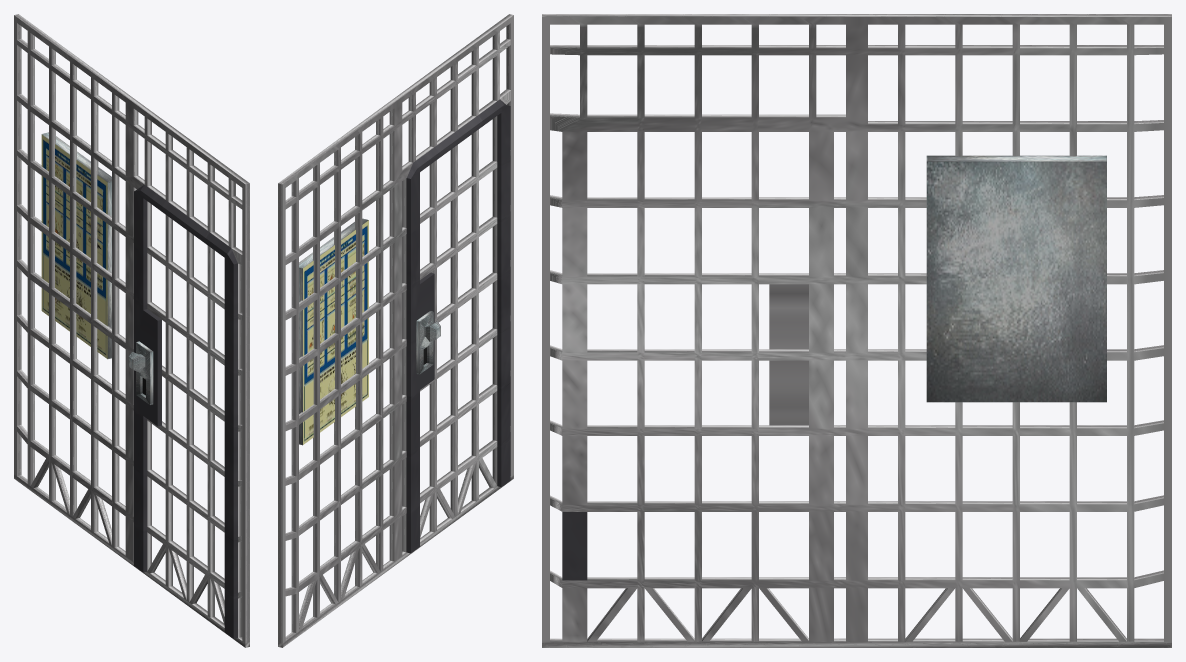
Rendered from door_gate.FBX.
3 views of the same model, side by side, from view 1: azimuth 30°, elevation 25°; view 2: azimuth 150°, elevation 25°; view 3: azimuth 270°, elevation 25° (orthographic). The views are drawn at different scales.
Parts seen in each view (by area): view 1: Box001, Object002, Object001, Box003, Box002; view 2: Box001, Object002, Object001, Box002, Box003; view 3: Box001, Box003, Object002.
Part boxes in pixels (x1,y1,x2,y2): Box001: [14, 14, 249, 647]; Object002: [134, 184, 237, 638]; Object001: [41, 134, 107, 358]; Box003: [42, 132, 111, 358]; Box002: [128, 341, 153, 404]; Box001: [278, 14, 513, 647]; Object002: [406, 99, 510, 553]; Object001: [303, 220, 368, 444]; Box002: [416, 311, 440, 374]; Box003: [299, 218, 368, 445]; Box001: [542, 14, 1171, 647]; Box003: [926, 155, 1106, 402]; Object002: [562, 512, 587, 580].
Bounding box in the file's own units: 10.46 × 144 × 130.
Materials: 5 (5 with a texture image).
